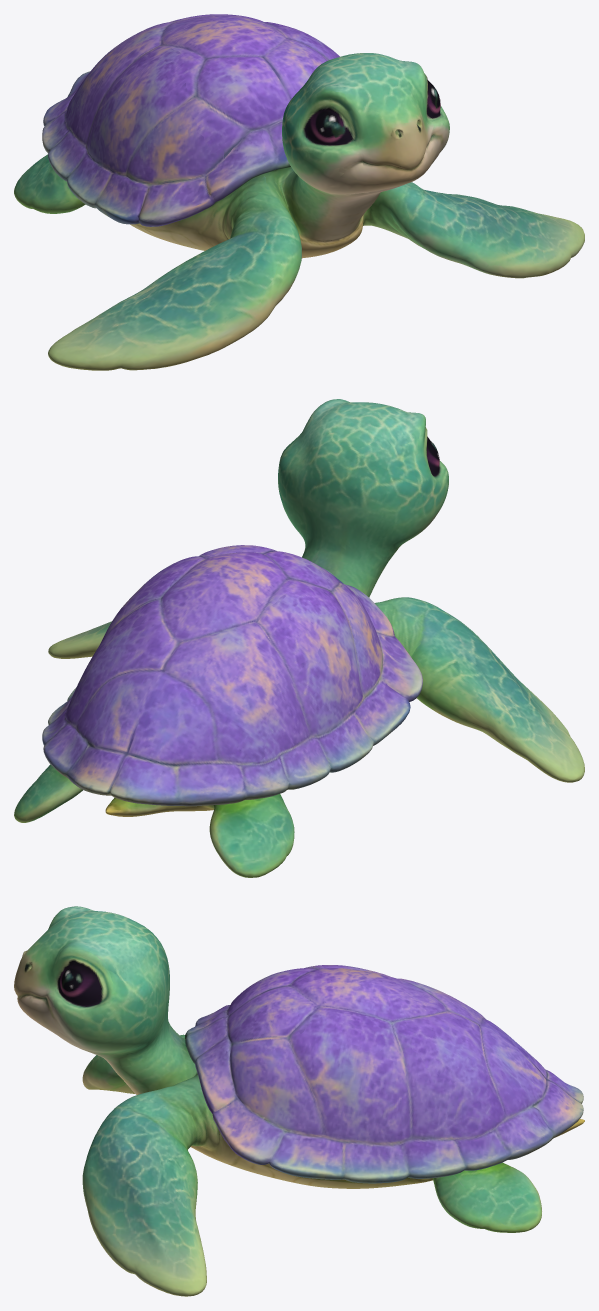
The model's file is shelly-polished.glb.
The picture shows the model from 3 angles, top to bottom: view 1: azimuth 30°, elevation 25°; view 2: azimuth 150°, elevation 25°; view 3: azimuth 270°, elevation 25°; orthographic projection. The views are drawn at different scales.
Parts seen in each view (by area): view 1: Shelly | organic sea turtle; view 2: Shelly | organic sea turtle; view 3: Shelly | organic sea turtle.
Part boxes in pixels (bbox=[...]): Shelly | organic sea turtle: bbox=[14, 14, 584, 370]; Shelly | organic sea turtle: bbox=[14, 399, 584, 877]; Shelly | organic sea turtle: bbox=[14, 906, 584, 1296].
Size of the model in its own units: 3.17 by 1.55 by 3.14.
1 material, 1 textured.
